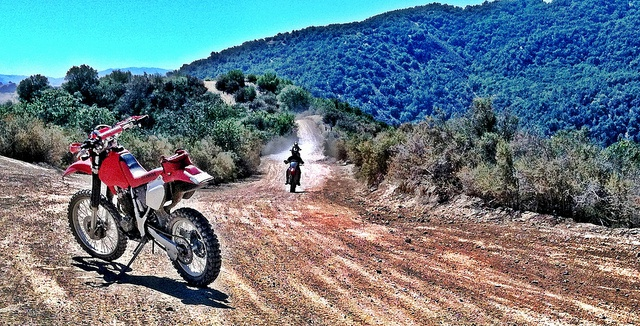non-vehicle: (60, 112, 222, 287), (284, 160, 304, 191)
